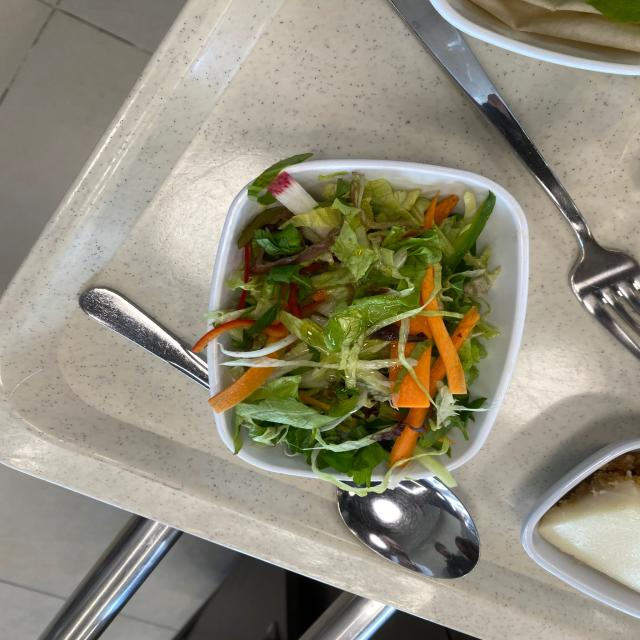yan_yemek: (196, 156, 516, 495)
